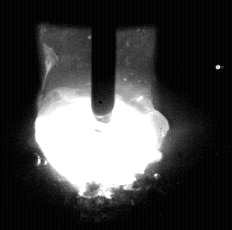arame: (92, 0, 117, 132)
poca: (34, 0, 165, 230)
